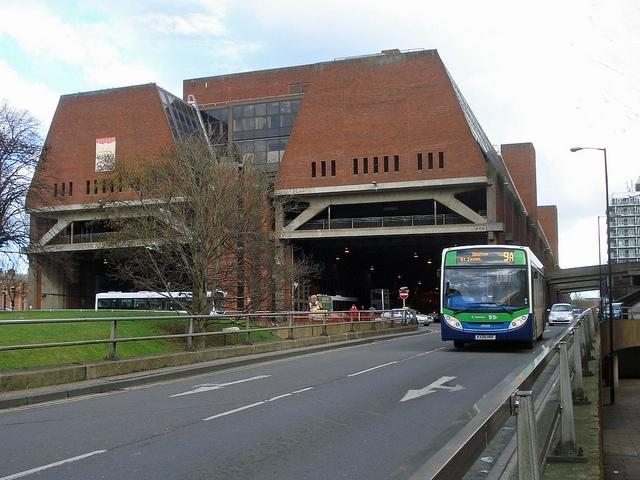bus: (440, 244, 550, 349), (95, 290, 226, 314), (308, 294, 357, 322)
car: (381, 310, 434, 326), (546, 302, 574, 326), (428, 311, 439, 322)
